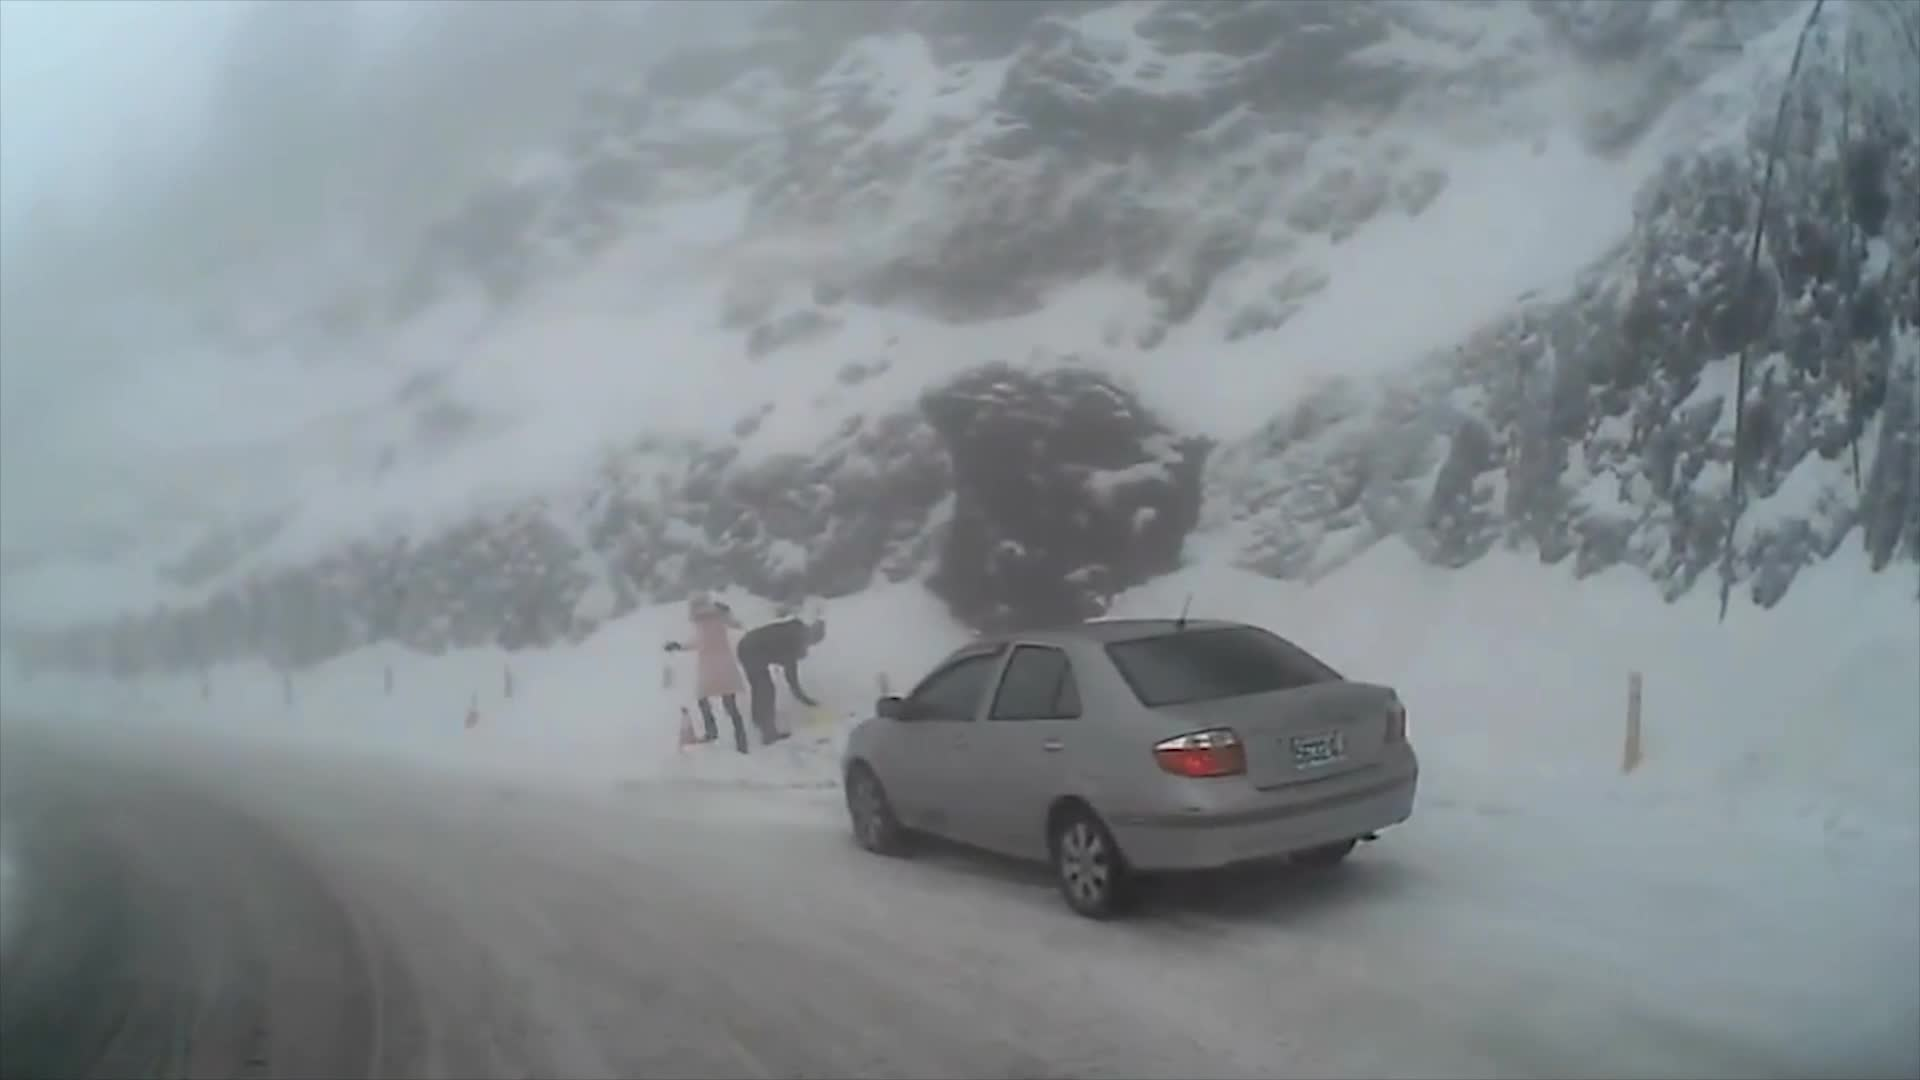pedestrian: (667, 586, 748, 754), (736, 620, 825, 747)
vehicle: (839, 615, 1417, 920)
